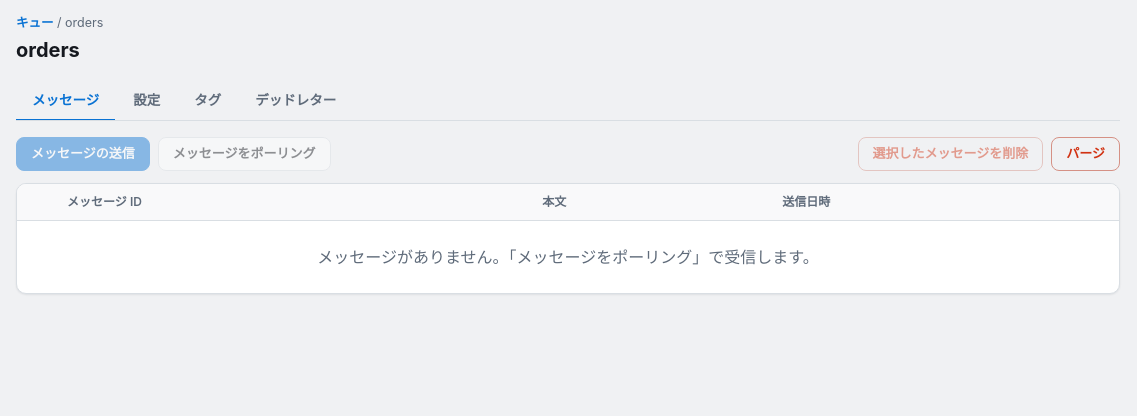
Scenario: QueueDetailPage › shows the redrive policy and source queues on the dead-letter tab
The image size is (1137, 416).
What coordinates should you click on to do the following:
click the button with test id "tab-dlq"
I would click on:
 (296, 101)
Its box is [239, 81, 352, 121].
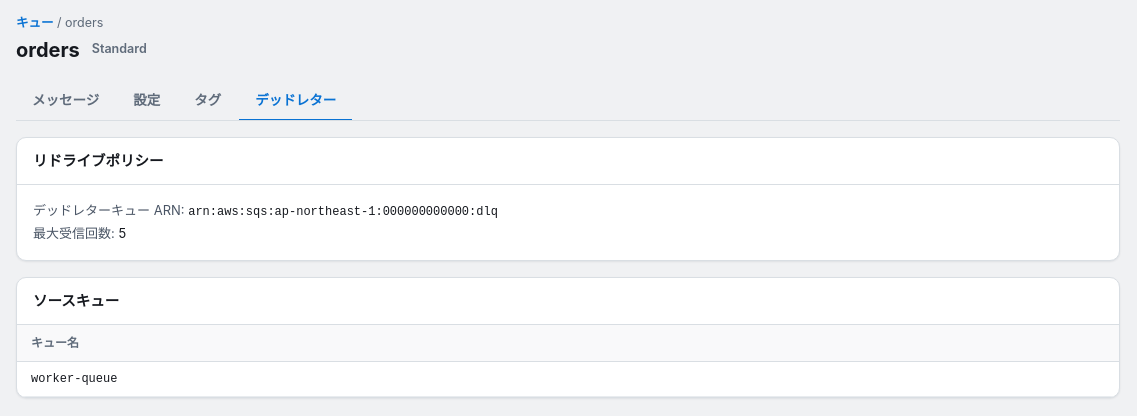
Result: the element with test id "dlq-redrive-policy" shows "dlq" at [188, 205, 498, 219]
Result: the element with test id "dlq-redrive-policy" shows "5" at [118, 225, 126, 241]
Result: the text "worker-queue" is shown at [17, 361, 1119, 396]
